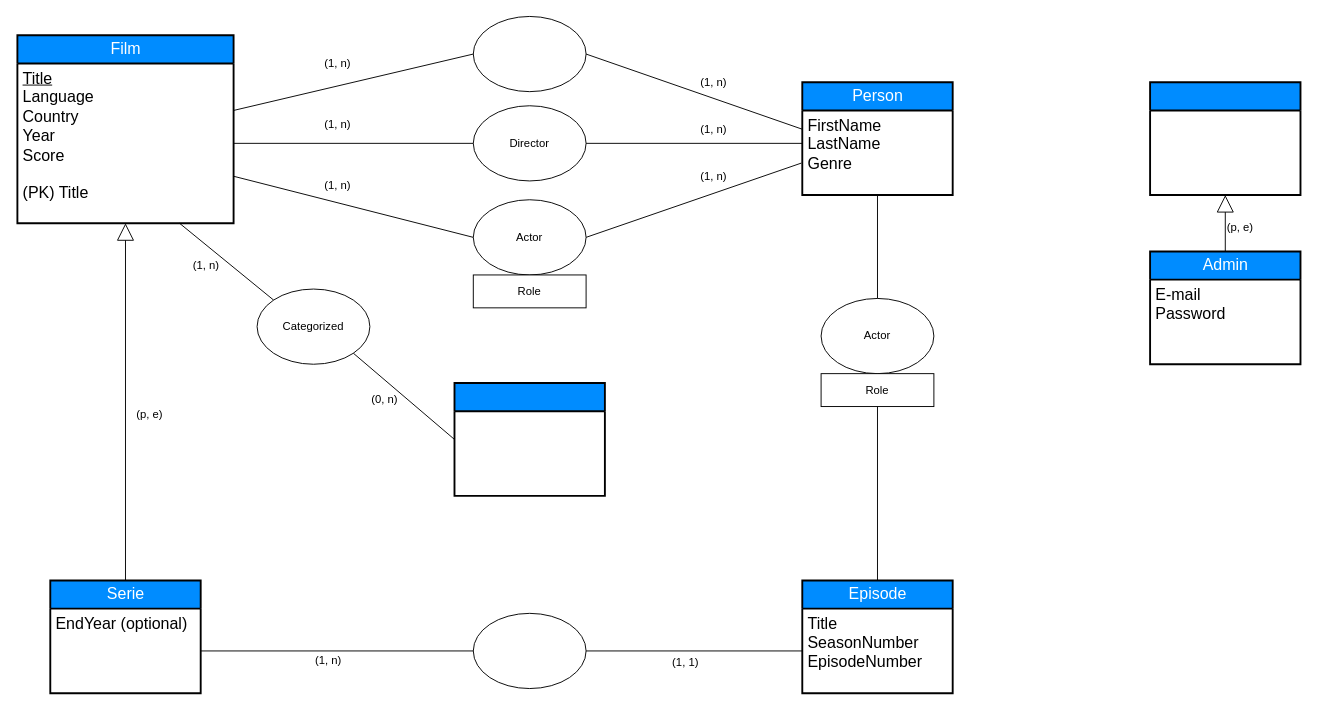
This 1317x711 diagram has some shape labels left out. Each missing label, with the centre of its shape:
"Author" goes at point (529, 54).
"Genre" goes at point (529, 439).
"is composed by" goes at point (529, 650).
"Utilizateur" goes at point (1225, 138).
